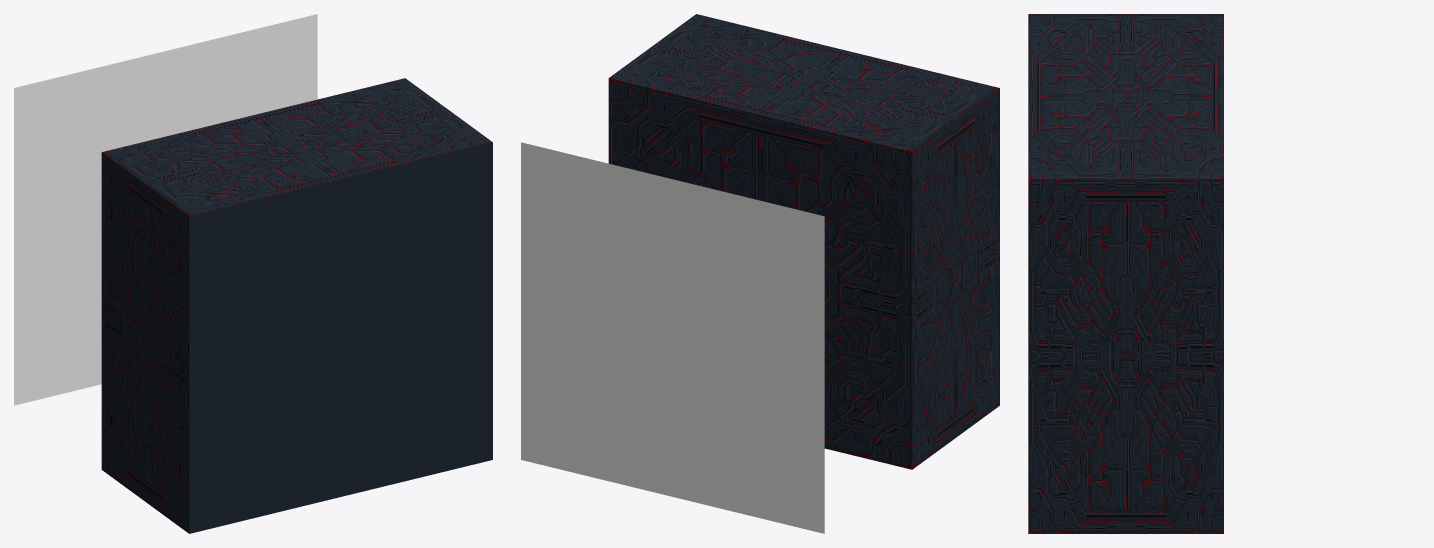
Rendered from server_red_middle.obj.
The picture shows the model from 3 angles, left to right: view 1: azimuth 30°, elevation 25°; view 2: azimuth 150°, elevation 25°; view 3: azimuth 270°, elevation 25°; orthographic projection. The views are drawn at different scales.
Visible parts, largest first — view 1: cube.000, cube; view 2: cube.000, cube; view 3: cube.000.
Part boxes in pixels (left/top/right/bottom): cube.000: left=101, top=78, right=492, bottom=533; cube: left=14, top=14, right=317, bottom=405; cube.000: left=608, top=14, right=999, bottom=469; cube: left=521, top=142, right=824, bottom=533; cube.000: left=1028, top=14, right=1223, bottom=533.
Bounding box in the file's own units: 1 × 1 × 1.
